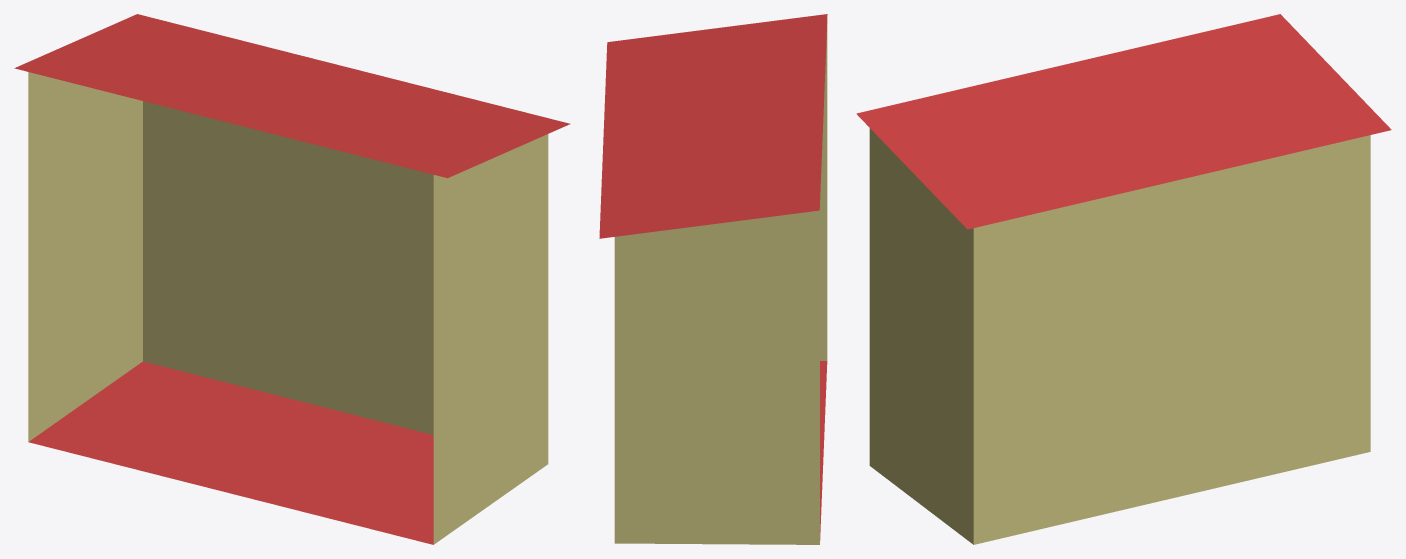
3 views of the same model, side by side, from view 1: azimuth 30°, elevation 25°; view 2: azimuth 150°, elevation 25°; view 3: azimuth 270°, elevation 25° (orthographic). The views are drawn at different scales.
Size of the model in its own units: 6.92 by 8.49 by 6.21.
